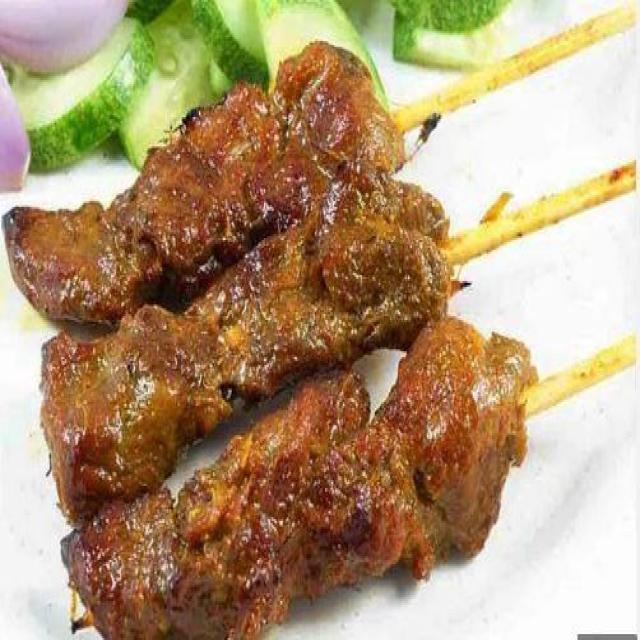Sate: (24, 15, 628, 638)
